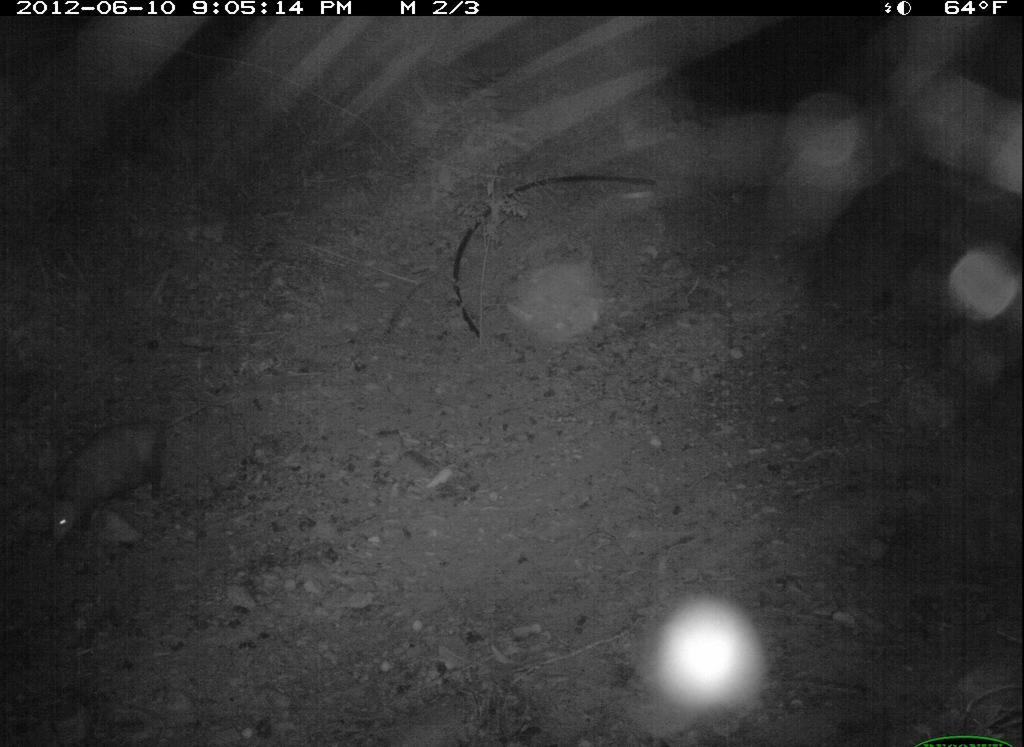opossum: (38, 391, 236, 560)
